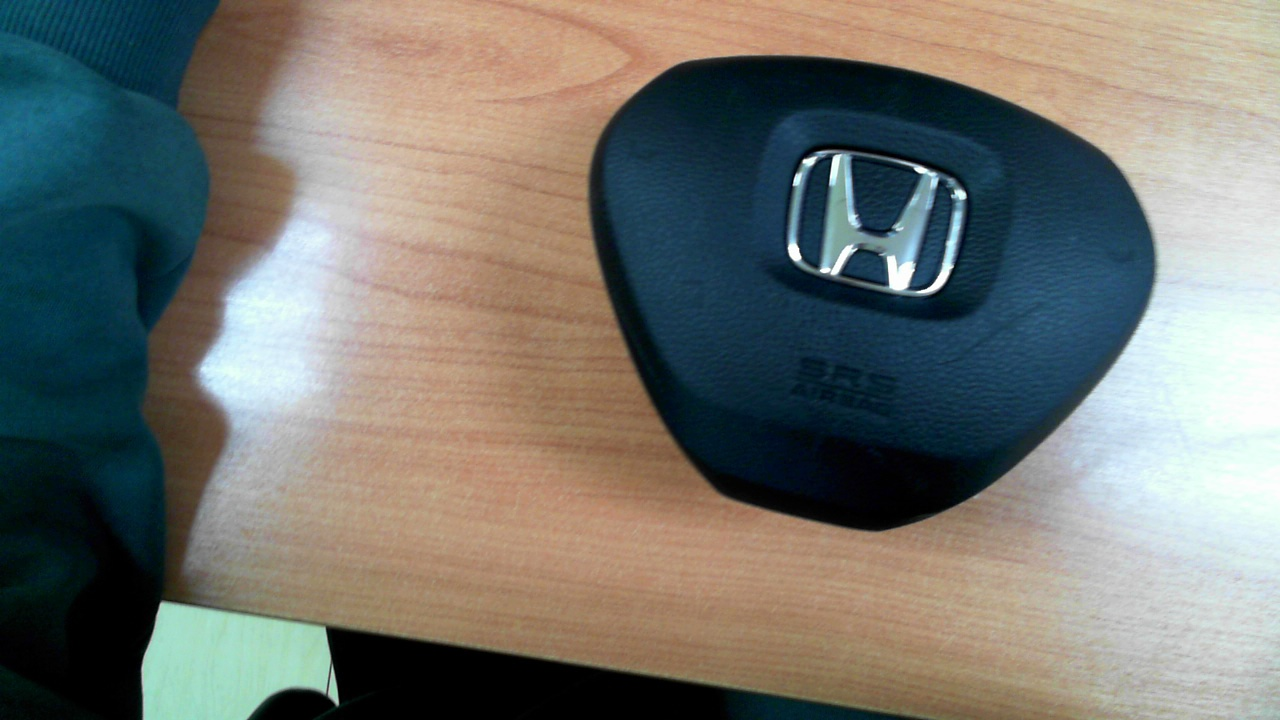Airbag: (589, 54, 1157, 534)
Honda: (786, 148, 968, 296)
